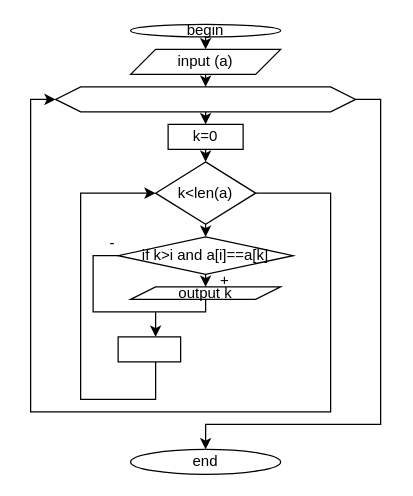
The diagram is 413 pixels wide and 496 high, and some of its shapes have lost their labels. Here are the shapes that lost their labels. From the top down, the centre of each, then its label:
At point (205, 99): "for i=0 to len(a)".
At point (149, 349): "k+=1".
